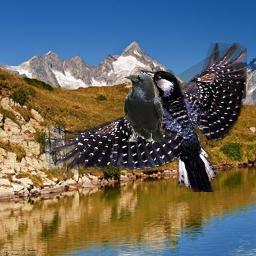Crow: (123, 73, 164, 142)
Woodpecker: (45, 43, 247, 192)
